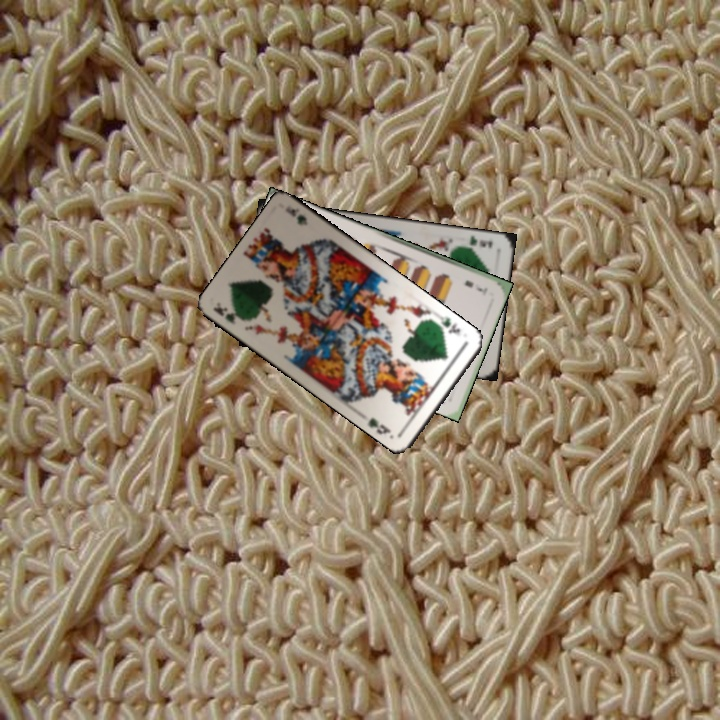E7: (460, 276, 490, 297)
GK: (210, 303, 250, 327), (436, 312, 463, 336), (465, 231, 495, 251)
